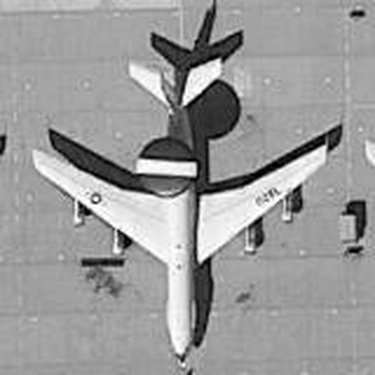airplane: (16, 23, 349, 365)
